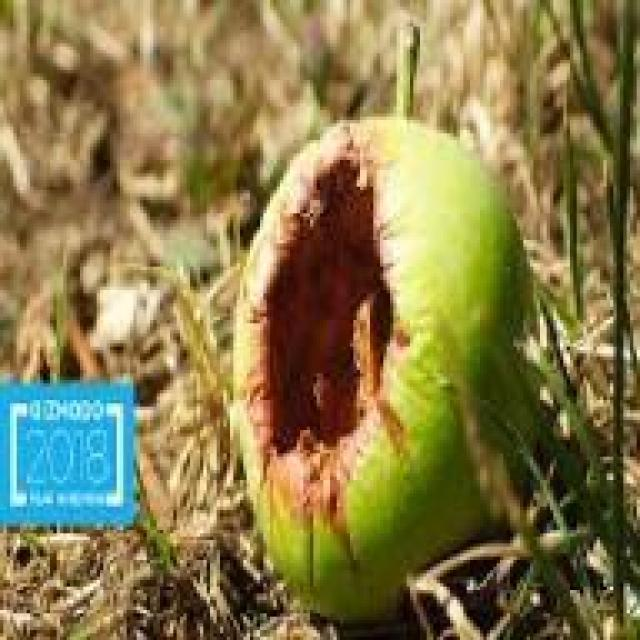apple: (236, 123, 536, 607)
